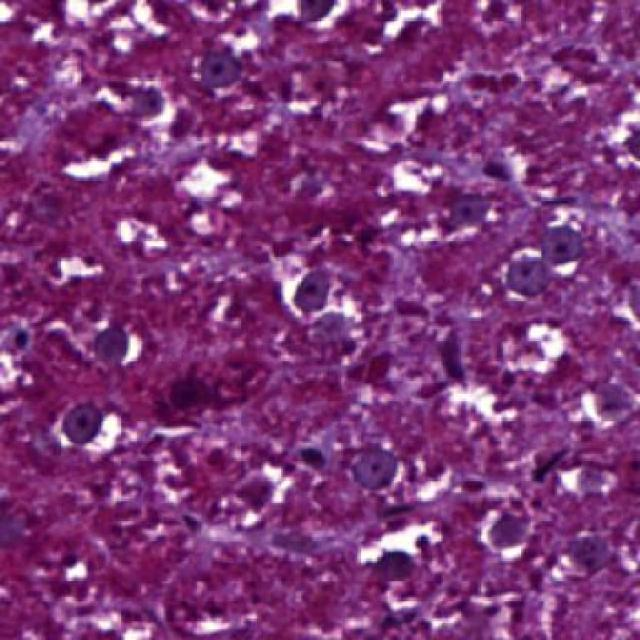inflammation: (497, 218, 588, 297), (469, 489, 546, 563), (45, 389, 123, 455), (278, 260, 354, 320), (274, 0, 355, 34)
